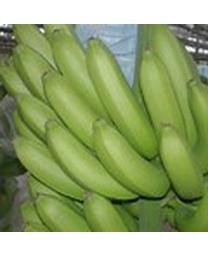banana: (2, 25, 206, 227)
